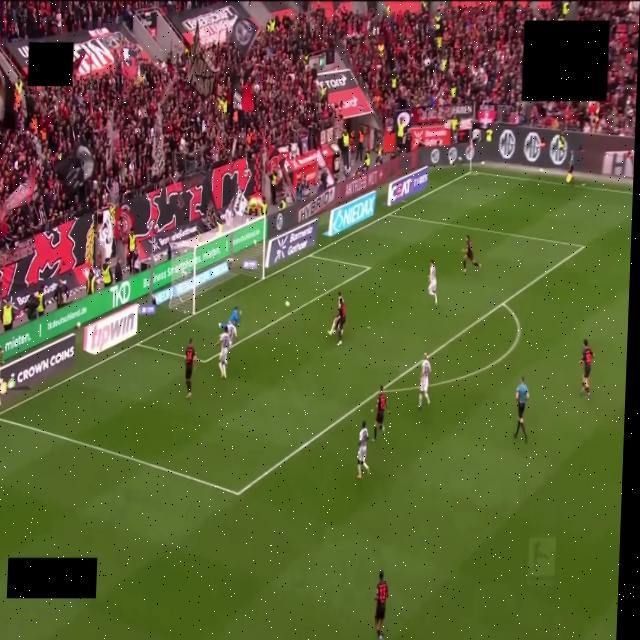ball: (285, 300, 291, 308)
player: (375, 570, 388, 639), (331, 293, 346, 345), (213, 330, 229, 378), (580, 339, 593, 398), (374, 385, 388, 439), (185, 338, 197, 399), (357, 421, 369, 479), (462, 235, 480, 272), (329, 292, 344, 335), (419, 353, 430, 408), (219, 306, 240, 330), (428, 260, 437, 304), (226, 323, 237, 348)
referee: (515, 377, 528, 443)
